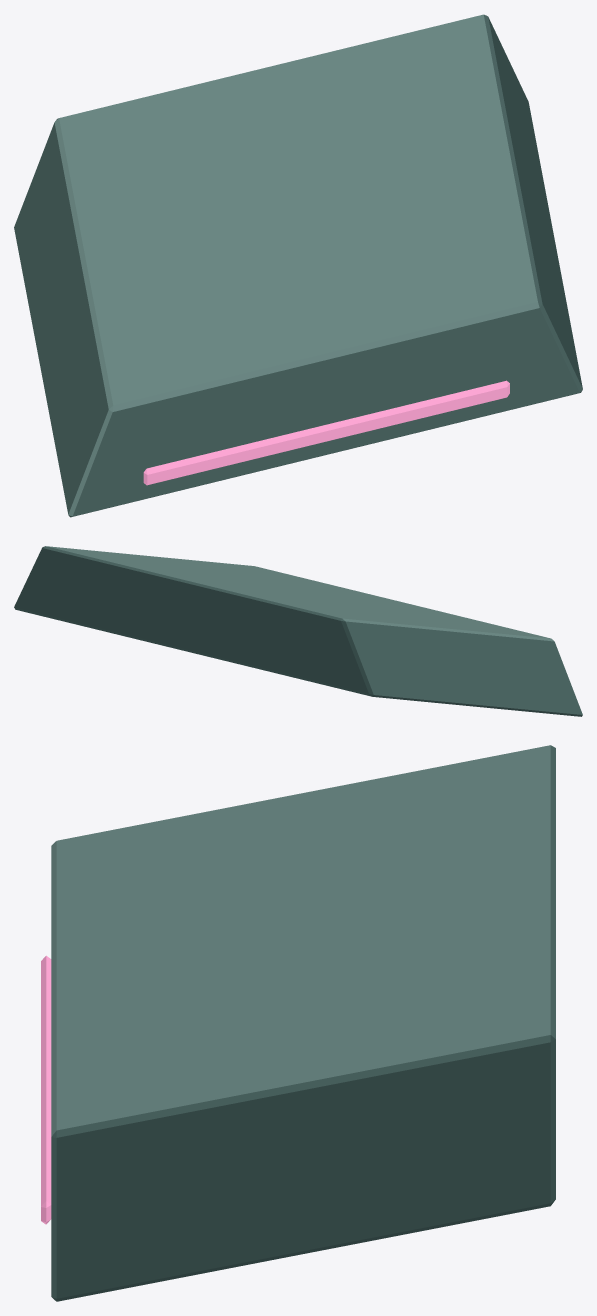
The model's file is Plate3D_Base.gltf.
3 views of the same model, one above another, from view 1: azimuth 30°, elevation 25°; view 2: azimuth 150°, elevation 25°; view 3: azimuth 270°, elevation 25° (orthographic). The views are drawn at different scales.
Visible parts, largest first — view 1: Plate3D_Base_baked; view 2: Plate3D_Base_baked; view 3: Plate3D_Base_baked.
Part boxes in pixels (<box>): Plate3D_Base_baked: <box>14,14,582,517</box>; Plate3D_Base_baked: <box>14,546,582,716</box>; Plate3D_Base_baked: <box>41,745,555,1301</box>.
Bounding box in the file's own units: 1.18 × 0.4072 × 0.592.
